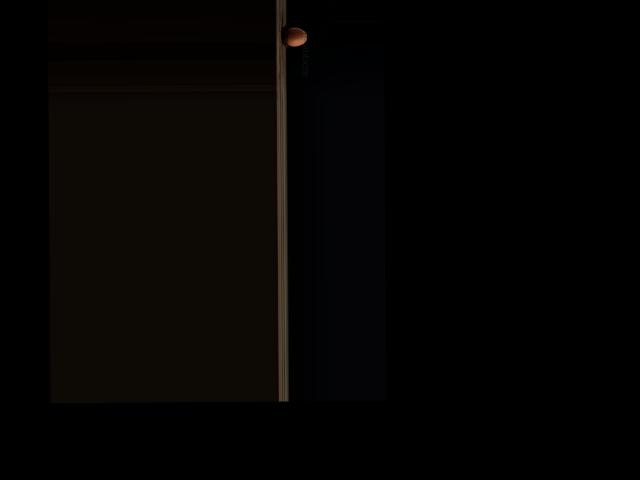egg: (286, 26, 306, 45)
